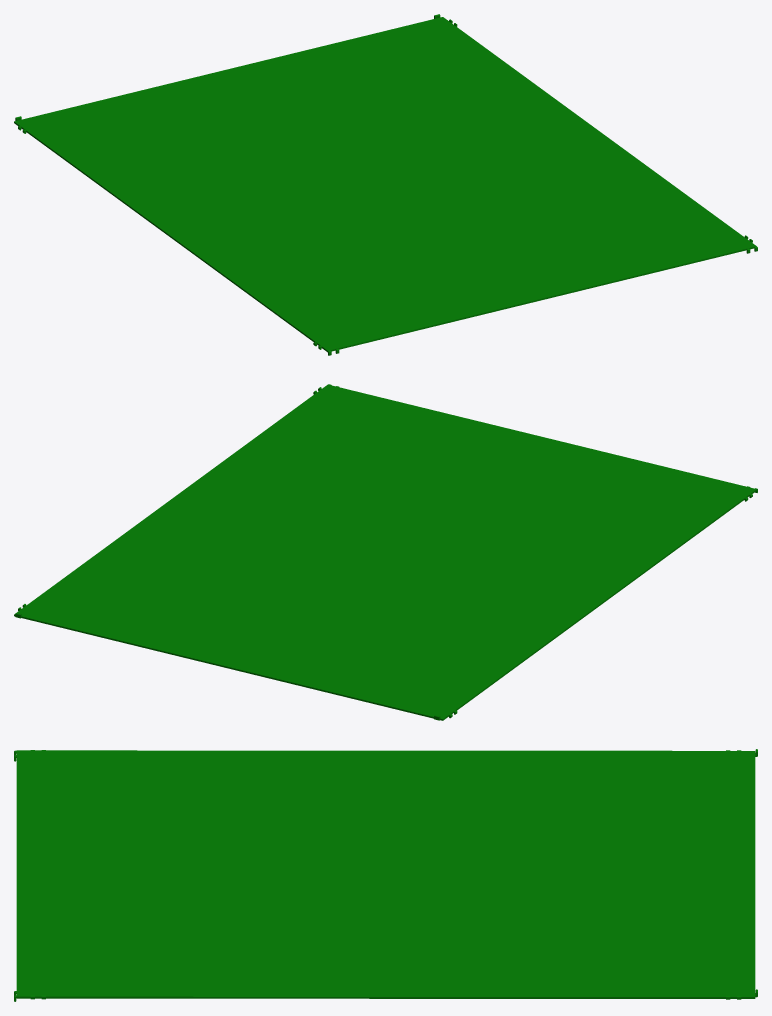
The model's file is psycheSolarPanel1-2_a.obj.
3 views of the same model, one above another, from view 1: azimuth 30°, elevation 25°; view 2: azimuth 150°, elevation 25°; view 3: azimuth 270°, elevation 25° (orthographic). The views are drawn at different scales.
Bounding box in the file's own units: 312 × 4.74 × 395.
